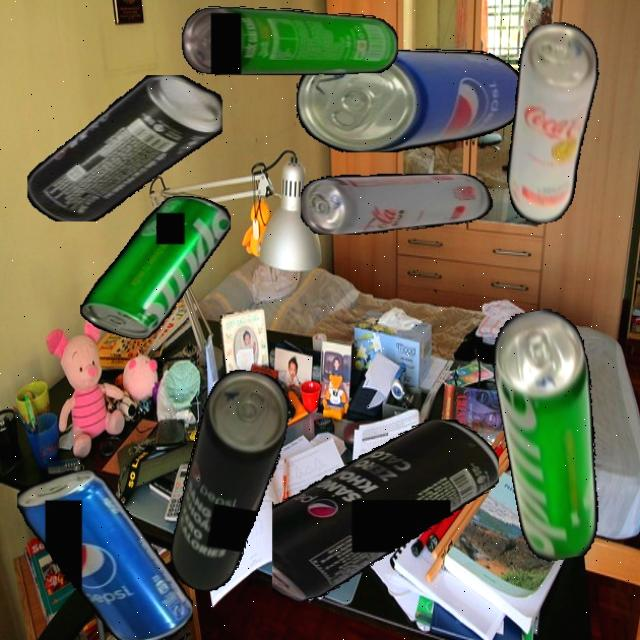debris: (271, 419, 499, 602), (484, 304, 620, 565), (16, 470, 193, 640), (166, 364, 294, 599), (482, 17, 624, 228), (28, 74, 222, 222), (297, 48, 523, 152), (79, 196, 231, 339), (182, 5, 398, 75), (300, 172, 494, 235)
